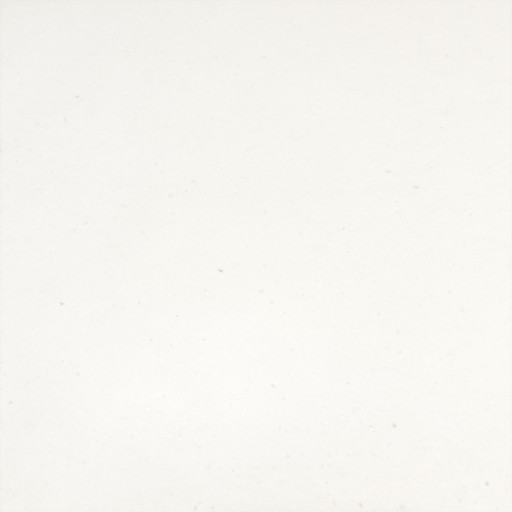lego: (231, 239, 281, 275)
